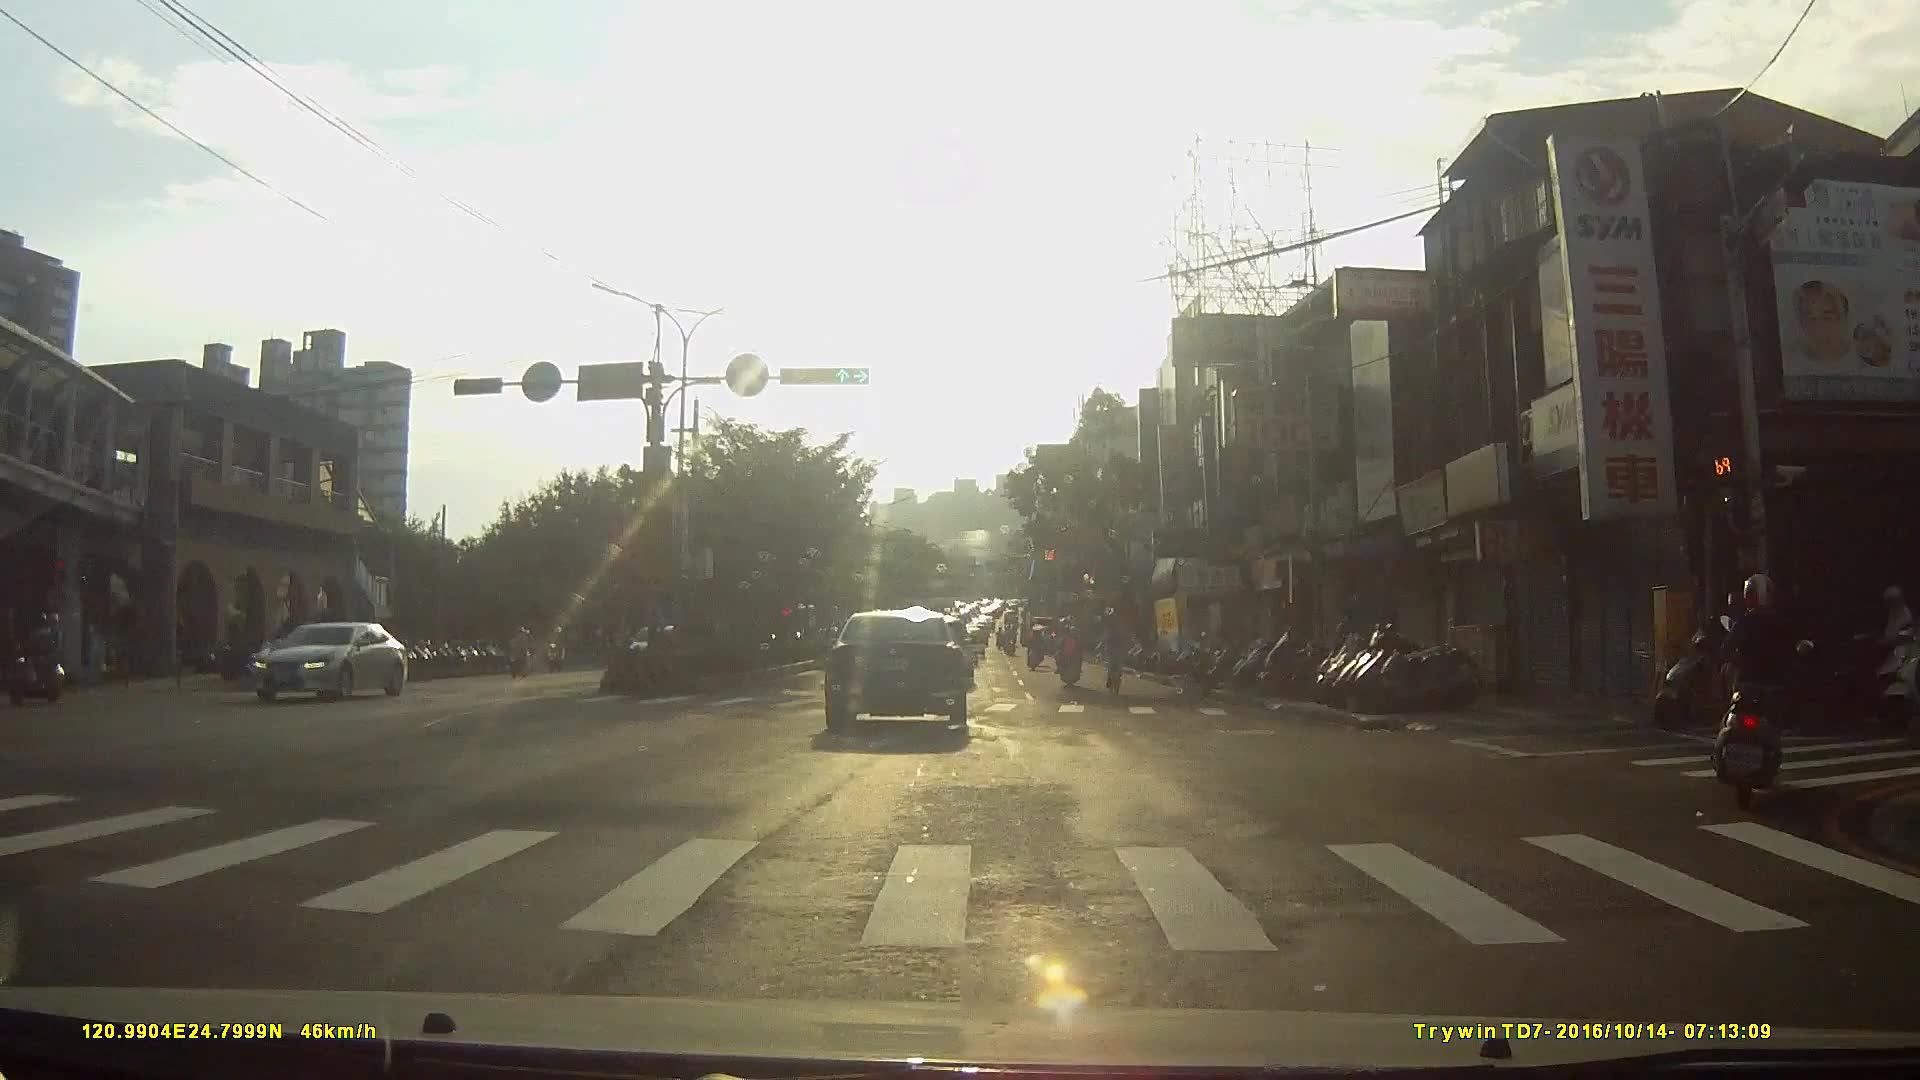rider: (1711, 568, 1820, 815), (10, 611, 69, 701), (1101, 615, 1126, 702), (1056, 623, 1084, 690), (509, 626, 541, 679), (545, 624, 571, 674), (1024, 625, 1048, 673)
vehicle: (825, 608, 984, 749), (251, 616, 415, 714)
